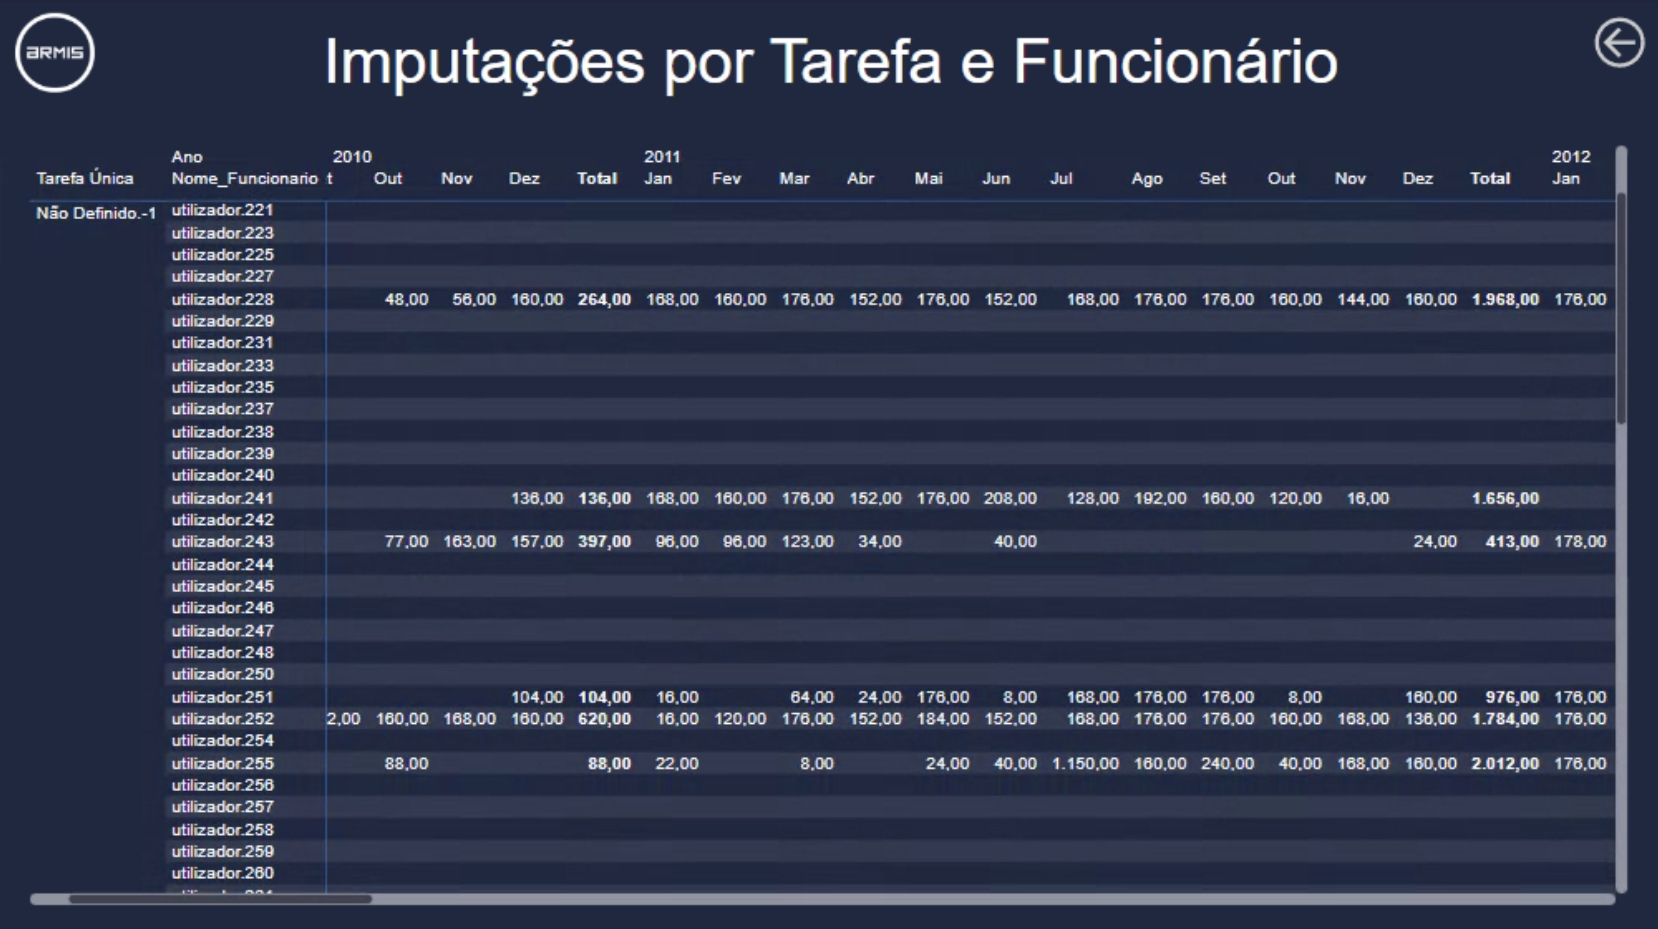

Layout of this report page (visuals, bound fields, positions):
{"tool":"powerbi","page":{"name":"Imputações por Tarefa e Funcionário","canvas":[1280,720],"ordinal":6},"visuals":[{"type":"pivotTable","fields":{"Values":["Produtividade de Tarefas.Horas Realizadas (Tarefa)"],"Columns":["Calendário.Ano","Calendário.Mes_Abrev"],"Rows":["Tarefa.Tarefa Única","Funcionario.Nome_Funcionario"]},"box":[20.8,107.9,1238.5,593.6],"z":0},{"type":"image","box":[5.1,6.4,77.8,71.4],"z":1000},{"type":"textbox","box":[191,16.6,899.5,76.1],"z":2000},{"type":"actionButton","box":[1223.3,0,49.8,67.8],"z":3001}]}

Visuals, with their boxes in screenshot pixels (x1, y1, x2, y2), scaled from the page's 1280x720 canvas onto the 1658x929 screenshot:
pivotTable - Produtividade de Tarefas.Horas Realizadas (Tarefa) x Calendário.Ano: {"x1": 27, "y1": 139, "x2": 1631, "y2": 905}
image: {"x1": 7, "y1": 8, "x2": 107, "y2": 100}
textbox: {"x1": 247, "y1": 21, "x2": 1413, "y2": 120}
actionButton: {"x1": 1585, "y1": 0, "x2": 1649, "y2": 87}
